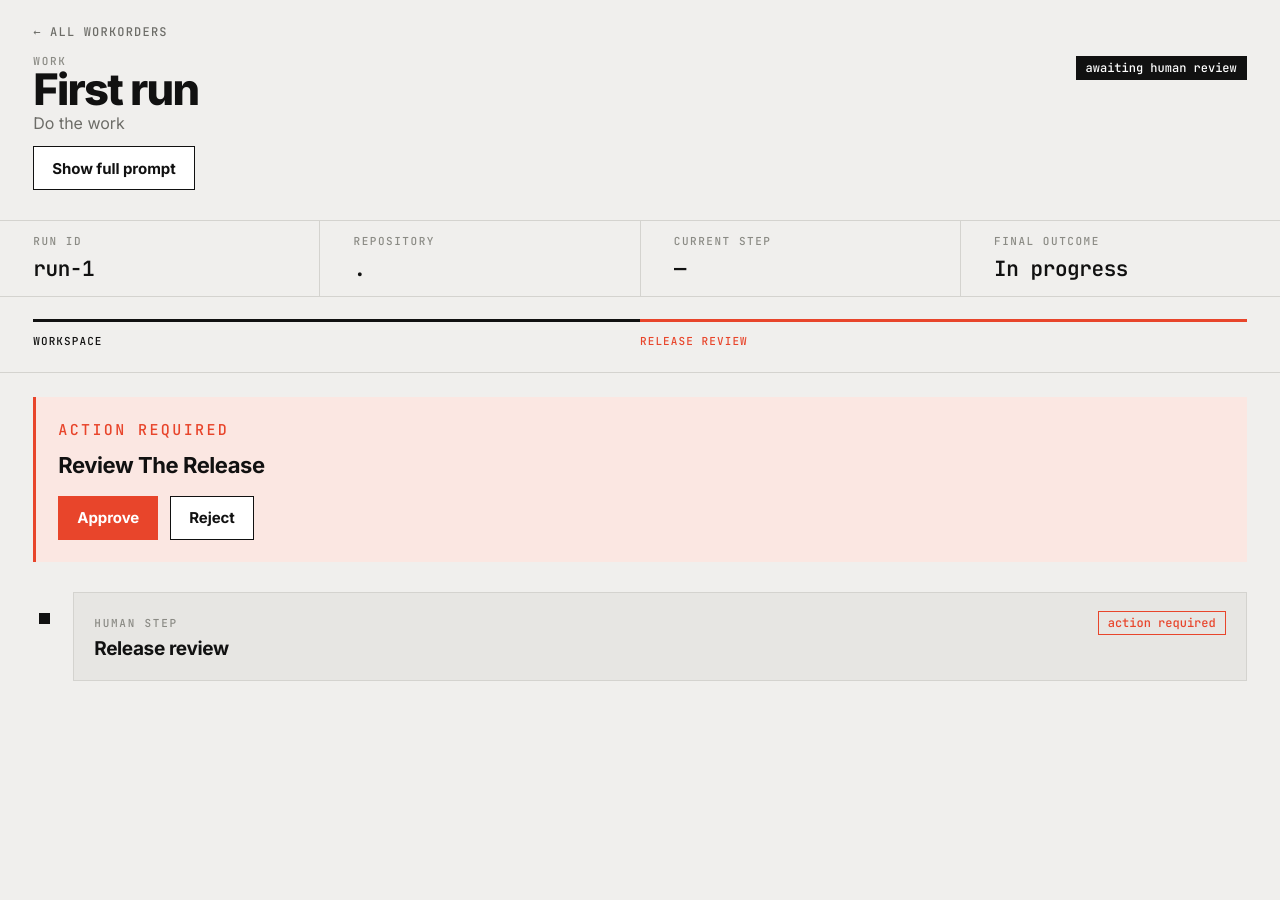
Test case: RunDetailPage › submits Approve to the graph approval and clears the decision
Click the button "Approve". click: (108, 518)
box: [58,496,158,540]
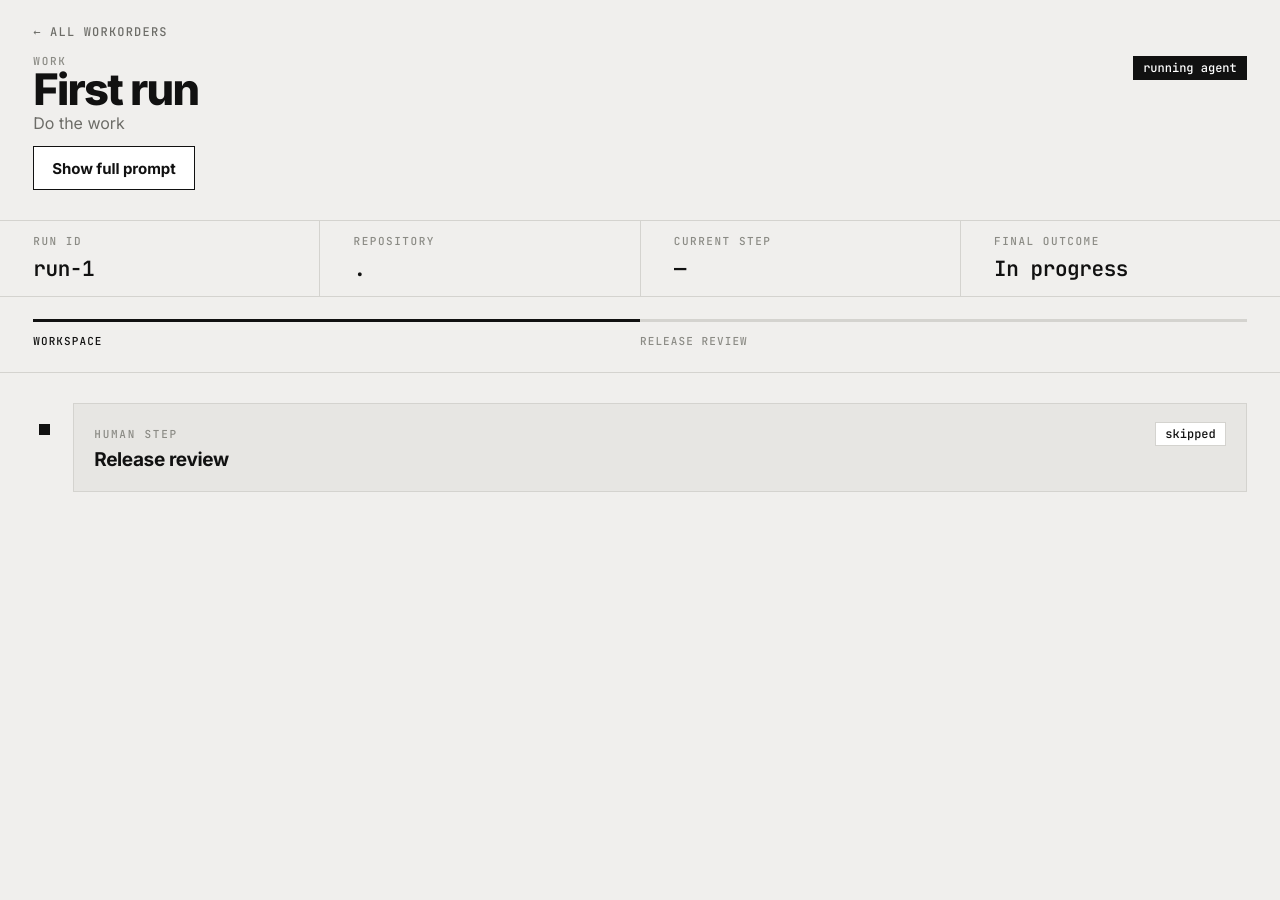
Check: the button "Approve" is gone
